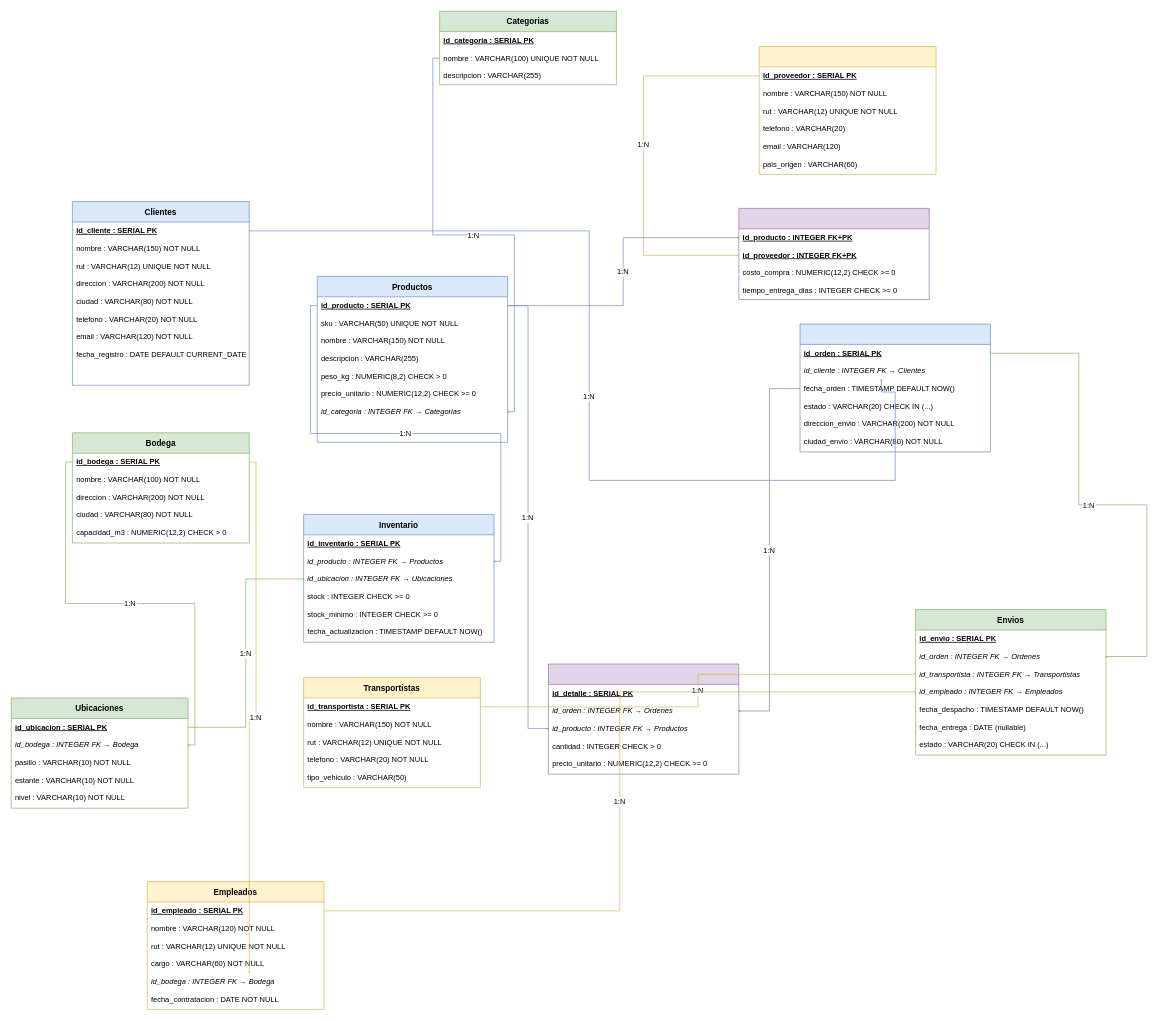
The diagram is 1158 pixels wide and 1021 high, and some of its shapes have lost their labels. Each missing label, with the box of its shape:
Detalle_Ordenes: (548, 663, 739, 774)
Ordenes: (799, 323, 990, 452)
Producto_Proveedor: (738, 208, 929, 300)
Proveedores: (759, 46, 936, 174)
